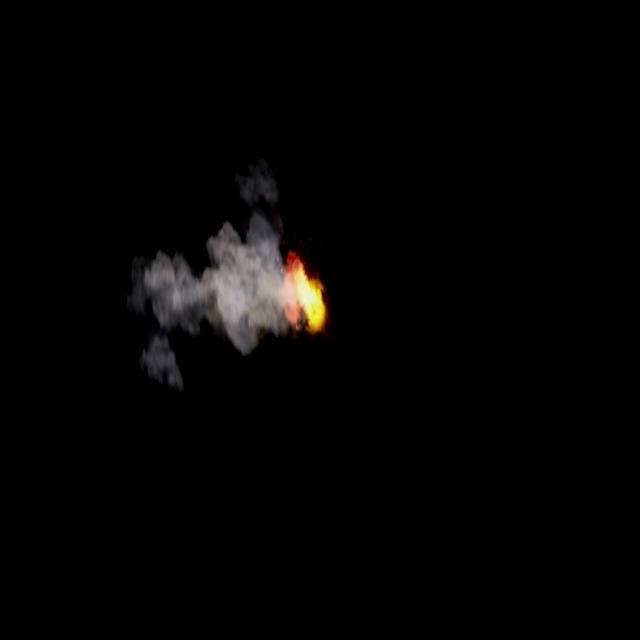fire: (273, 248, 331, 338)
smoke: (115, 194, 299, 386)
